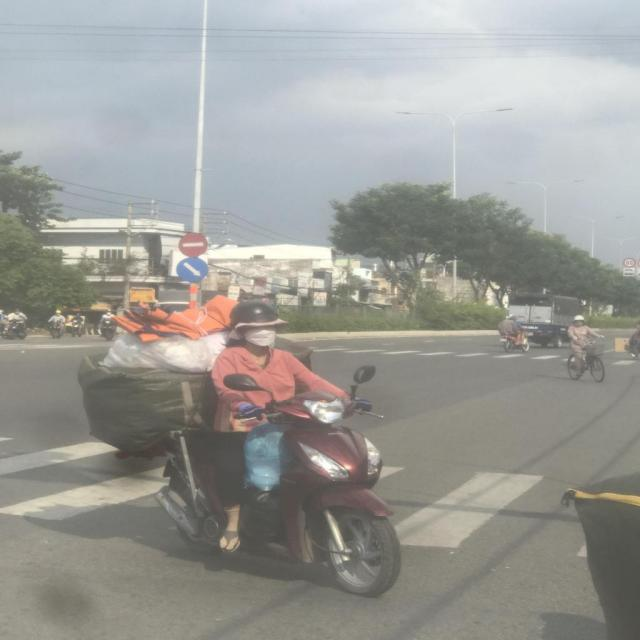cam_xe_di_nguoc_chieu: (178, 232, 206, 257)
huong_phai_di_vuot_chuong_ngai_vat_phai: (177, 256, 210, 281)
khac: (623, 272, 634, 276), (624, 268, 634, 272)
toc_do_toi_da_80: (622, 258, 636, 268)
